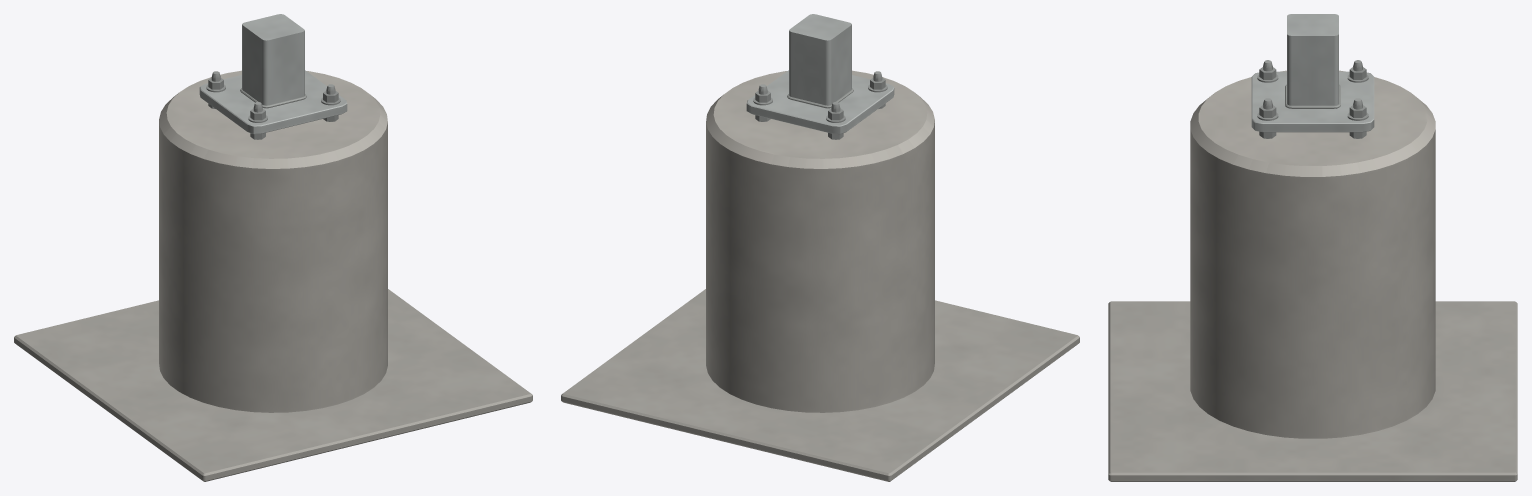
3 renders of one model, left to right at view 1: azimuth 30°, elevation 25°; view 2: azimuth 150°, elevation 25°; view 3: azimuth 270°, elevation 25°, orthographic. The views are drawn at different scales.
Visible parts, largest first — view 1: pier, pad, foot, plate; view 2: pier, pad, foot, plate; view 3: pier, pad, foot, plate.
Part boxes in pixels (x1,y1,x2,y2): pier: [159, 70, 387, 412]; pad: [14, 289, 532, 481]; foot: [242, 14, 304, 105]; plate: [199, 70, 347, 134]; pier: [706, 70, 934, 412]; pad: [561, 289, 1079, 481]; foot: [789, 14, 851, 105]; plate: [746, 70, 894, 134]; pier: [1190, 70, 1435, 438]; pad: [1108, 301, 1517, 481]; foot: [1287, 14, 1338, 105]; plate: [1251, 71, 1374, 132].
Size of the model in its own units: 0.9996 by 1 by 0.9996.
